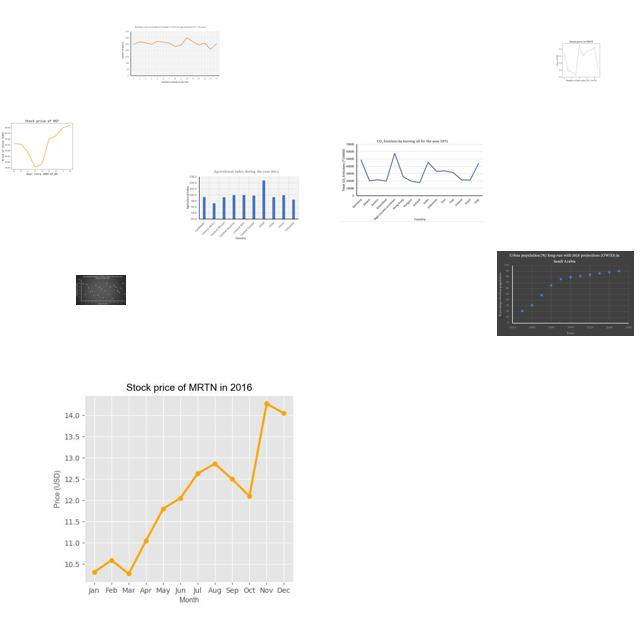Graph: (23, 366, 347, 609), (341, 138, 483, 222), (497, 251, 634, 336), (182, 168, 301, 240), (119, 24, 222, 86), (1, 116, 81, 176), (551, 38, 610, 82), (76, 275, 126, 305)
